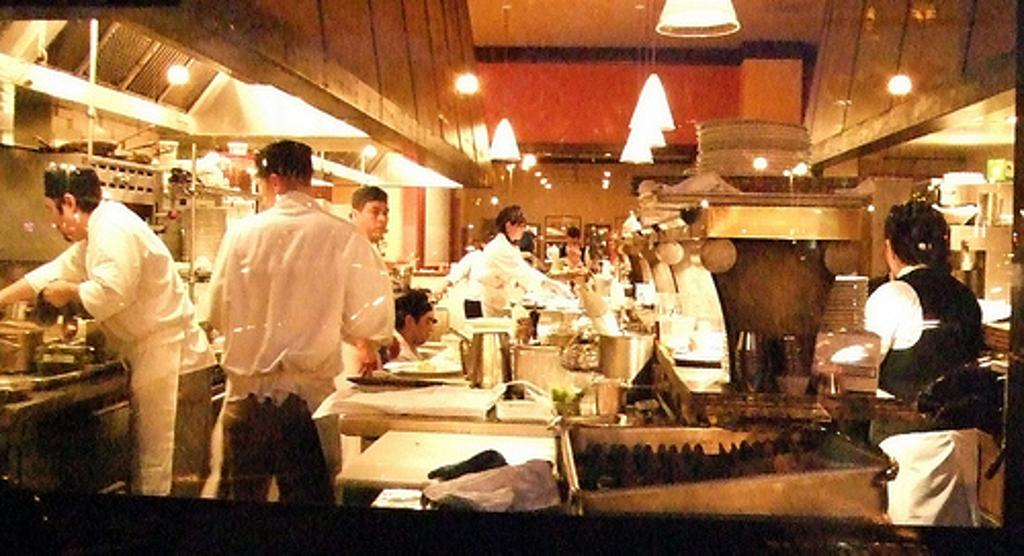face: (44, 192, 75, 241), (358, 203, 387, 238), (512, 220, 525, 239)
